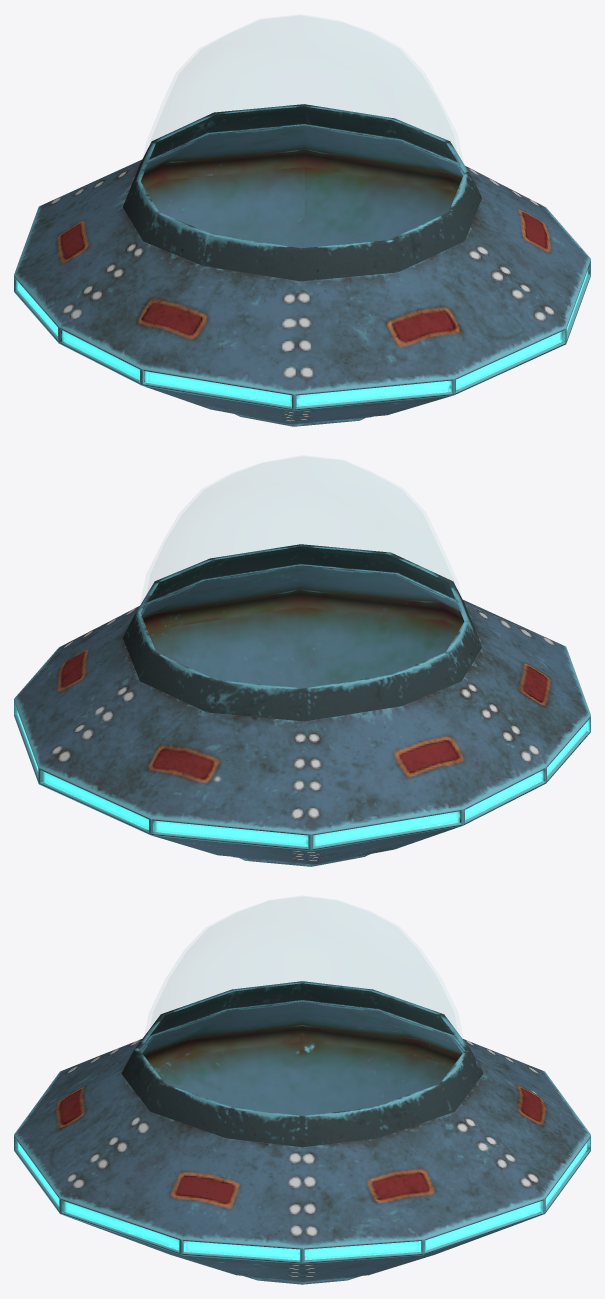
The model's file is ovni.glb.
3 views of the same model, one above another, from view 1: azimuth 30°, elevation 25°; view 2: azimuth 150°, elevation 25°; view 3: azimuth 270°, elevation 25° (orthographic). The views are drawn at different scales.
Parts seen in each view (by area): view 1: polySurface4, polySurface3; view 2: polySurface4, polySurface3; view 3: polySurface4, polySurface3.
Boxes of the visible parts, left/top/right/bottom form: polySurface4: left=14, top=124, right=590, bottom=426; polySurface3: left=122, top=104, right=481, bottom=281; polySurface4: left=14, top=564, right=590, bottom=866; polySurface3: left=123, top=544, right=482, bottom=721; polySurface4: left=14, top=1000, right=590, bottom=1284; polySurface3: left=121, top=981, right=483, bottom=1147.
Bounding box in the file's own units: 9.21 × 6.29 × 9.94.
Materials: 2 (1 with a texture image).
